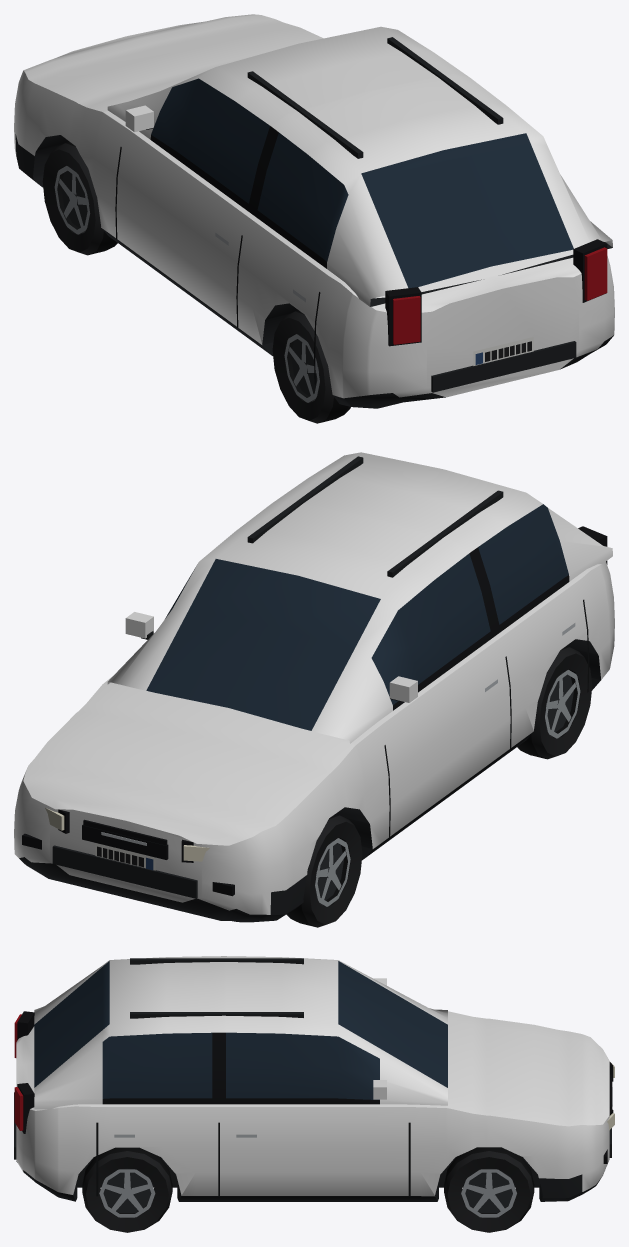
File: csuv_drive.glb
The picture shows the model from 3 angles, top to bottom: view 1: azimuth 30°, elevation 25°; view 2: azimuth 150°, elevation 25°; view 3: azimuth 270°, elevation 25°; orthographic projection. The views are drawn at different scales.
Visible parts, largest first — view 1: csuv, wheel_rl, wheel_fl, tail; view 2: csuv, wheel_fl, wheel_rl, head; view 3: csuv, wheel_fr, wheel_rr, tail.
Boxes of the visible parts, box(x1,y1,x2,y2) form: csuv: box(14, 14, 614, 408); wheel_rl: box(272, 310, 350, 423); wheel_fl: box(42, 142, 117, 255); tail: box(393, 247, 607, 344); csuv: box(14, 452, 614, 922); wheel_fl: box(286, 814, 362, 927); wheel_rl: box(517, 646, 592, 759); head: box(45, 808, 209, 861); csuv: box(14, 956, 613, 1201); wheel_fr: box(444, 1147, 534, 1232); wheel_rr: box(82, 1147, 172, 1232); tail: box(14, 1014, 23, 1130).
Bounding box in the file's own units: 1.88 × 1.6 × 4.39.
